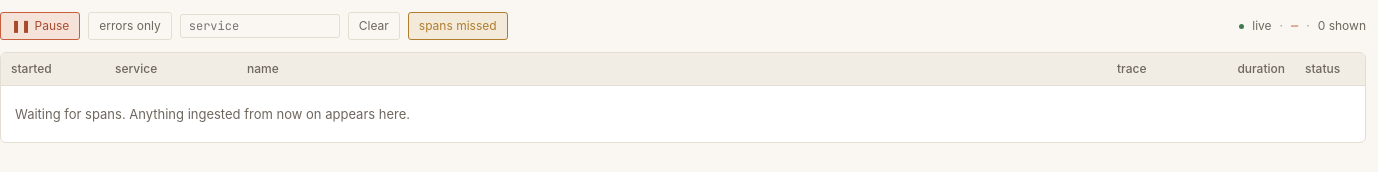
the live tail screen › does not carry a gap warning across a filter change
Check: the text "spans missed" is shown, box [408, 12, 508, 40]
Click the button "errors only" at (130, 26), box [88, 12, 172, 40]
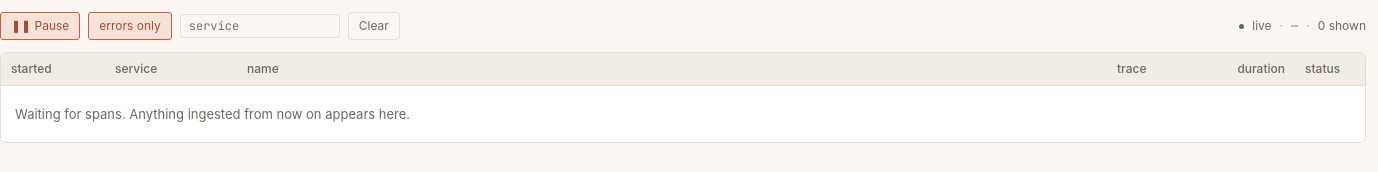
Check: the text "spans missed" is gone
